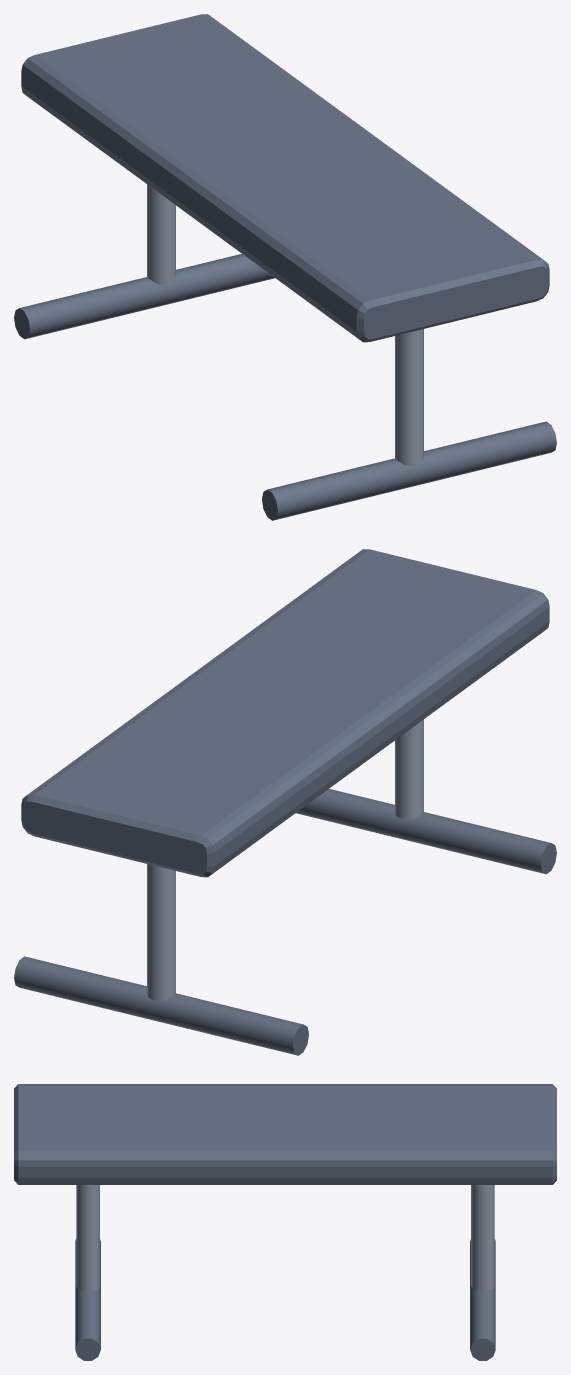
Rendered from weight-bench.glb.
The picture shows the model from 3 angles, top to bottom: view 1: azimuth 30°, elevation 25°; view 2: azimuth 150°, elevation 25°; view 3: azimuth 270°, elevation 25°; orthographic projection. The views are drawn at different scales.
Visible parts, largest first — view 1: dark, body; view 2: dark, body; view 3: dark, body.
Boxes of the visible parts, x1=… form: dark: x1=14, y1=14, x2=556, y2=520; body: x1=147, y1=184, x2=423, y2=465; dark: x1=14, y1=549, x2=556, y2=1055; body: x1=147, y1=719, x2=423, y2=1000; dark: x1=14, y1=1084, x2=556, y2=1360; body: x1=76, y1=1185, x2=494, y2=1290.
Bounding box in the file's own units: 0.52 × 0.4217 × 1.1.
